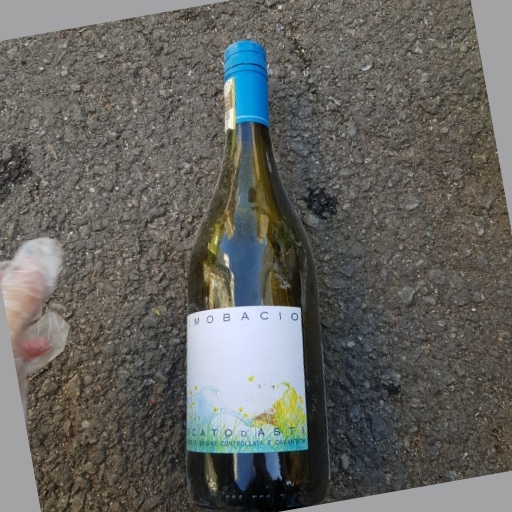Glass_2: (177, 39, 333, 512)
